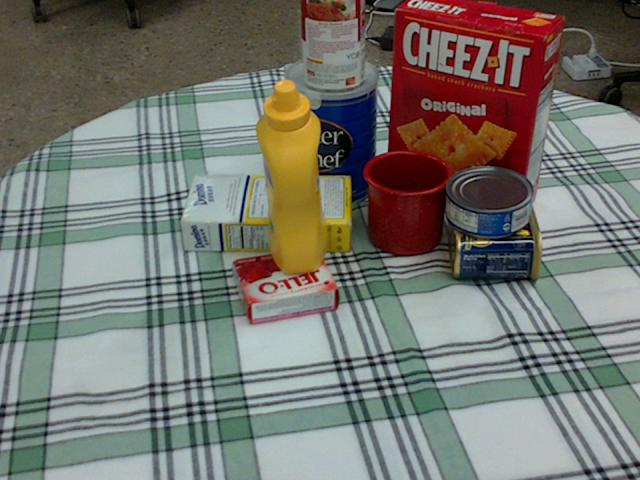cracker_box: (386, 0, 566, 220)
gelatin_box: (234, 248, 339, 323)
master_chef_can: (284, 55, 378, 207)
mug: (364, 149, 455, 254)
mustard_bottle: (256, 78, 326, 273)
potted_meat_can: (449, 188, 541, 276)
sugar_box: (179, 174, 351, 251)
tomato_soup_can: (301, 0, 366, 91)
tuna_fish_can: (445, 167, 533, 237)
